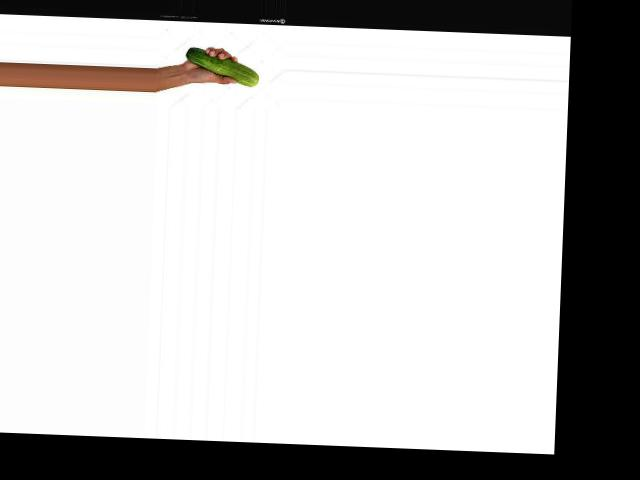cucumber: (184, 47, 259, 87)
